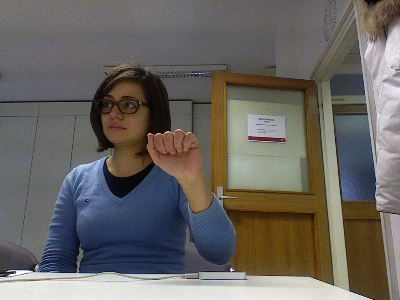石头: (145, 128, 202, 178)
